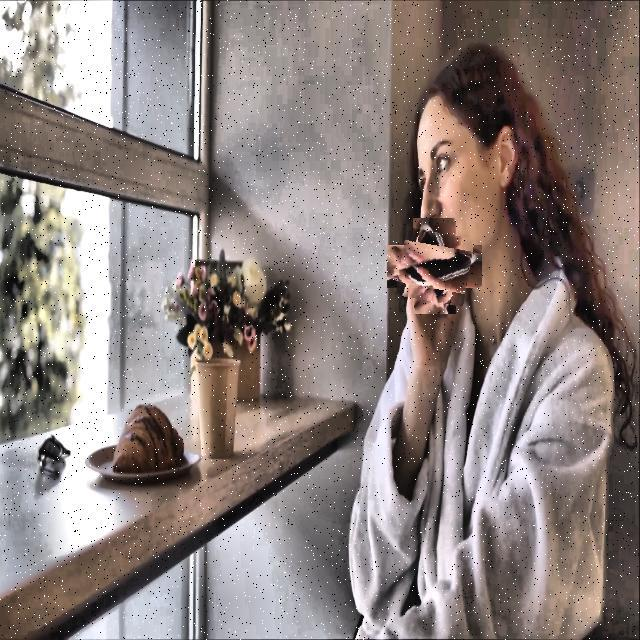Phone: (398, 230, 472, 304)
